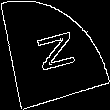N_W: (30, 30, 80, 80)
